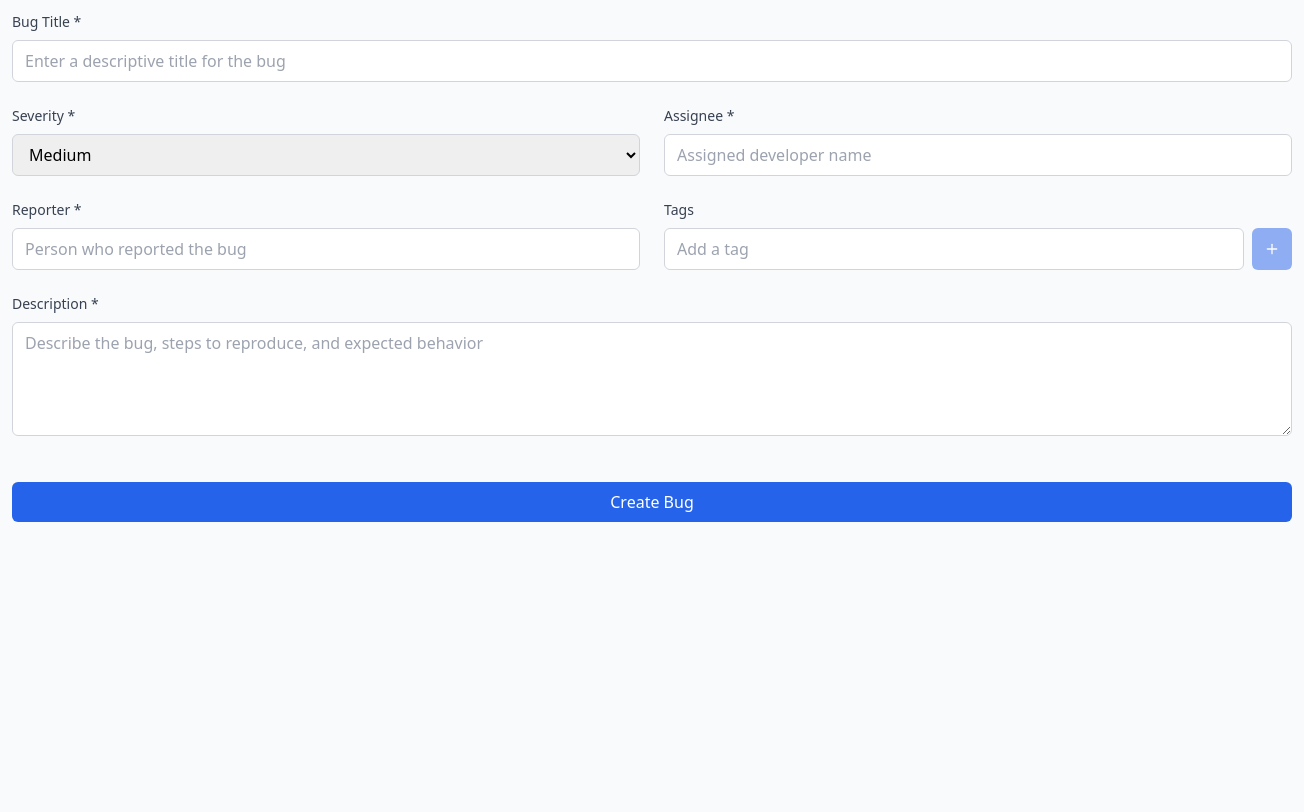
Scenario: BugForm › should show validation errors for empty required fields
This screenshot has width=1304, height=812.
Click the button "Create Bug".
click(652, 502)  # box [12, 482, 1292, 522]
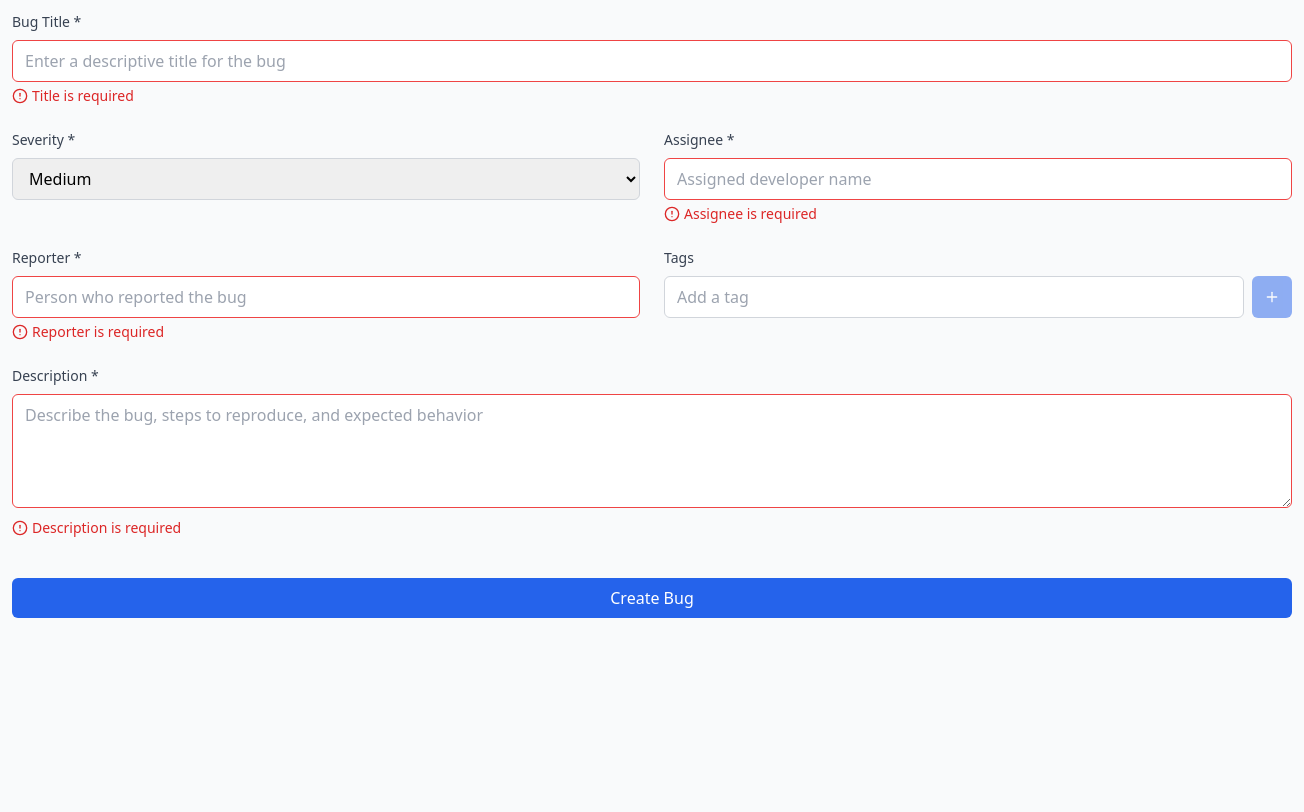
expect the text "Title is required" is shown: met, box [12, 86, 134, 105]
expect the text "Description is required" is shown: met, box [12, 518, 181, 537]
expect the text "Assignee is required" is shown: met, box [664, 204, 817, 223]
